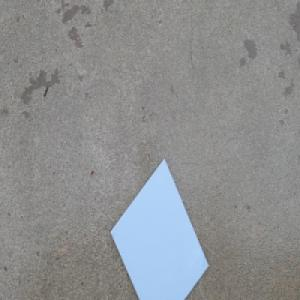PaintChip: (108, 158, 209, 300)
